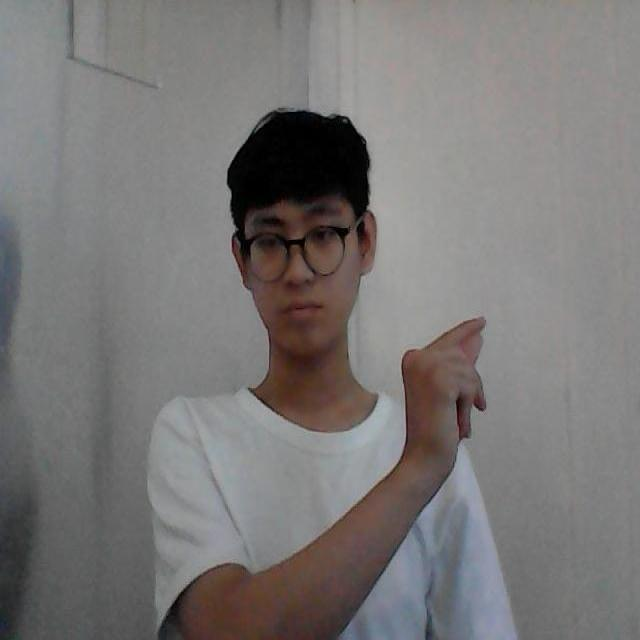R: (398, 311, 498, 458)
